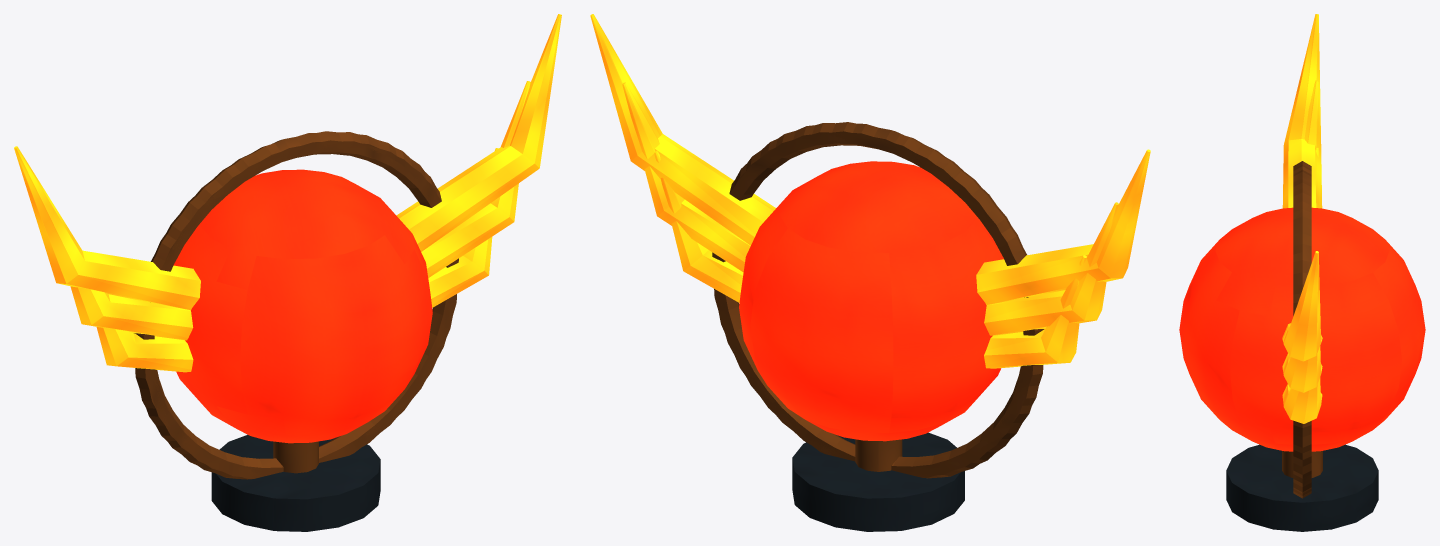
Rendered from phoenix_orb.glb.
3 renders of one model, left to right at view 1: azimuth 30°, elevation 25°; view 2: azimuth 150°, elevation 25°; view 3: azimuth 270°, elevation 25°, orthographic. The views are drawn at different scales.
Visible parts, largest first — view 1: phoenix_orb; view 2: phoenix_orb; view 3: phoenix_orb.
Part boxes in pixels (left/top/right/bottom): phoenix_orb: left=14, top=14, right=561, bottom=531; phoenix_orb: left=590, top=14, right=1150, bottom=531; phoenix_orb: left=1179, top=14, right=1425, bottom=531.
Bounding box in the file's own units: 0.9653 × 0.6911 × 0.42.
4 materials, 4 textured.
